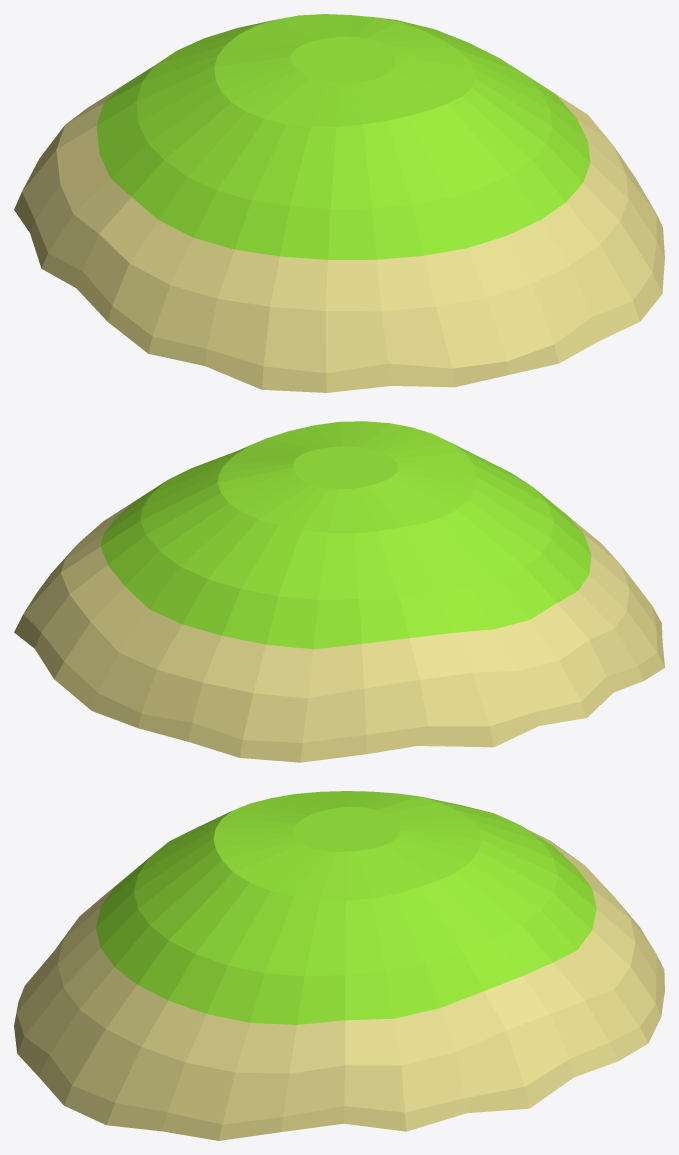
Rendered from newisland.fbx.
3 views of the same model, one above another, from view 1: azimuth 30°, elevation 25°; view 2: azimuth 150°, elevation 25°; view 3: azimuth 270°, elevation 25° (orthographic).
Visible parts, largest first — view 1: Cylinder; view 2: Cylinder; view 3: Cylinder.
Part boxes in pixels (x1,y1,x2,y2): Cylinder: [14, 14, 664, 392]; Cylinder: [14, 421, 664, 762]; Cylinder: [14, 791, 664, 1140].
Bounding box in the file's own units: 339 × 118 × 349.
